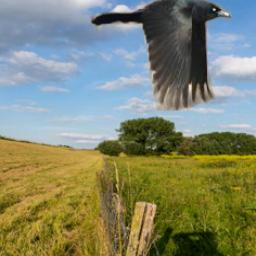Crow: (91, 0, 233, 111)
